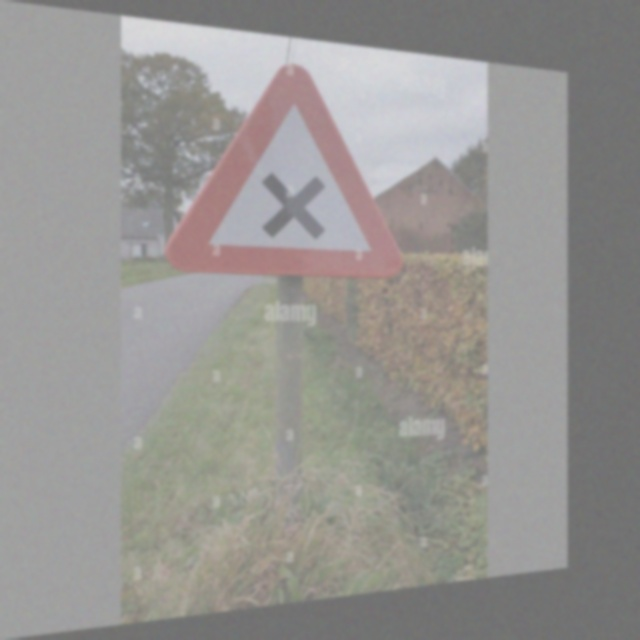Cross_Road: (177, 44, 394, 278)
